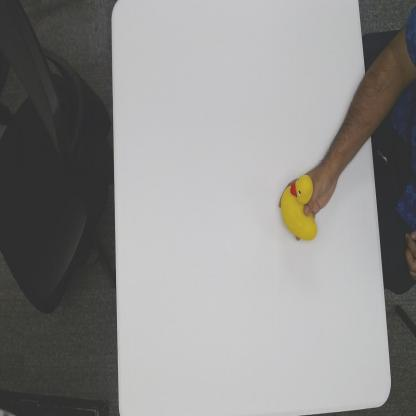Arm: (332, 68, 370, 187)
Duck: (280, 172, 318, 242)
Hand: (279, 164, 333, 240)
